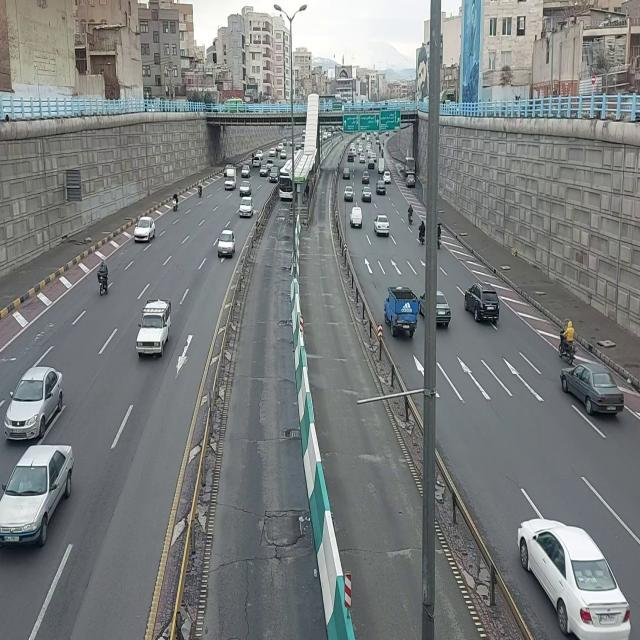Bus: (279, 159, 293, 203)
Car: (512, 509, 640, 640), (1, 444, 75, 546), (2, 363, 66, 445), (559, 362, 626, 420), (464, 281, 500, 323), (418, 288, 452, 328), (134, 214, 158, 244), (217, 228, 238, 260), (374, 214, 390, 237), (238, 197, 254, 219), (239, 181, 252, 198), (269, 166, 280, 184), (375, 179, 386, 197), (361, 186, 371, 204), (344, 186, 354, 202), (241, 164, 251, 178), (259, 163, 269, 177), (406, 175, 416, 189), (383, 170, 392, 184), (342, 166, 350, 180), (362, 171, 370, 185), (266, 158, 276, 168), (253, 156, 261, 168), (368, 159, 376, 170), (347, 151, 355, 162), (280, 149, 287, 159), (278, 142, 285, 152), (296, 141, 303, 151), (359, 153, 366, 163), (256, 150, 264, 158), (269, 148, 276, 157), (282, 138, 288, 147), (371, 152, 377, 160), (357, 145, 363, 153)
Motorcycle: (558, 318, 578, 365), (97, 258, 109, 298), (418, 221, 426, 247), (437, 222, 443, 250), (407, 204, 413, 225), (173, 193, 179, 213), (197, 179, 203, 197), (252, 153, 255, 165), (276, 149, 279, 159), (381, 149, 384, 159), (382, 139, 384, 148), (379, 144, 381, 153)
Pickup: (135, 297, 173, 360), (384, 285, 420, 338), (224, 167, 237, 191), (349, 206, 363, 228), (378, 158, 385, 174)
